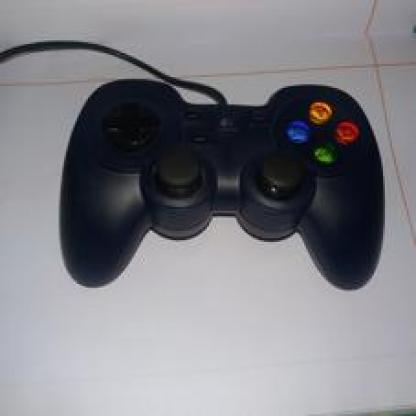gamepad: (63, 59, 393, 298)
